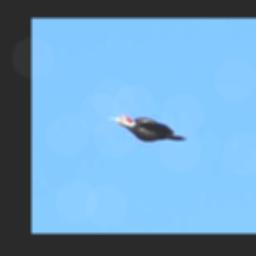Woodpecker: (110, 113, 186, 141)
